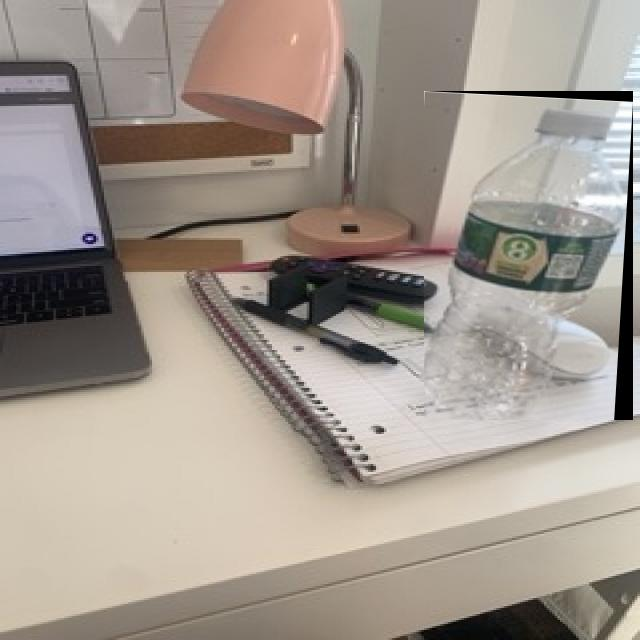water_bottle: (424, 91, 633, 420)
